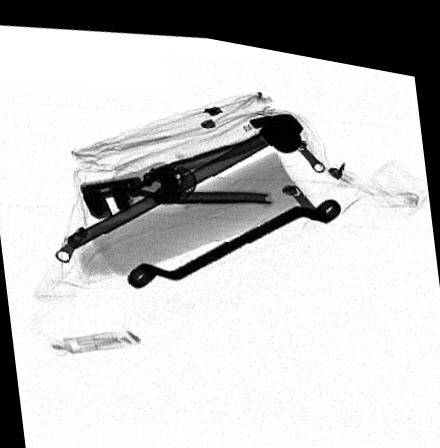Hammer: (77, 101, 305, 202)
Pliers: (76, 120, 278, 214)
Wrench: (124, 186, 343, 284)
